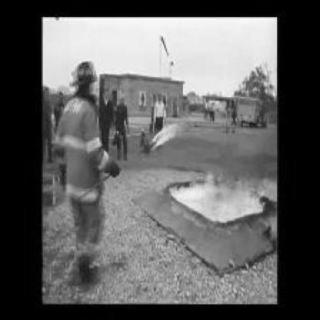Fire: (166, 167, 274, 225)
